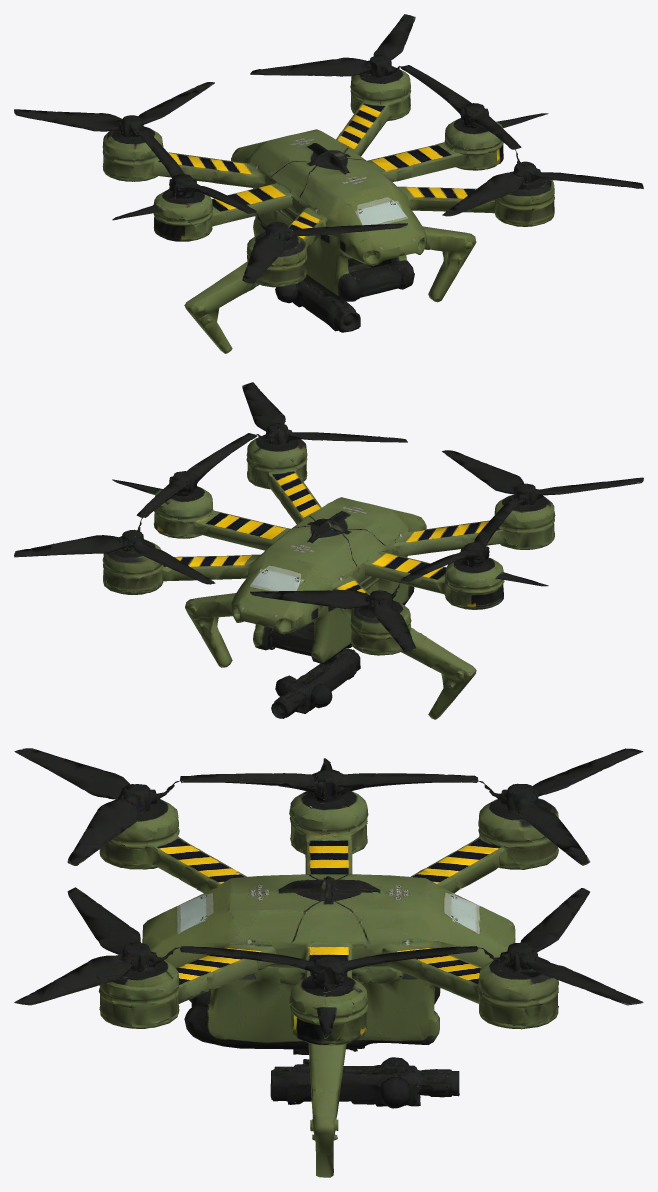
The model's file is drone.glb.
3 views of the same model, one above another, from view 1: azimuth 30°, elevation 25°; view 2: azimuth 150°, elevation 25°; view 3: azimuth 270°, elevation 25° (orthographic). The views are drawn at different scales.
Visible parts, largest first — view 1: Mesh_0; view 2: Mesh_0; view 3: Mesh_0.
Boxes of the visible parts, x1=… form: Mesh_0: x1=14, y1=14, x2=643, y2=353; Mesh_0: x1=14, y1=382, x2=643, y2=719; Mesh_0: x1=14, y1=748, x2=643, y2=1177.
Size of the model in its own units: 1.9 by 0.7738 by 1.8.
1 material, 1 textured.
